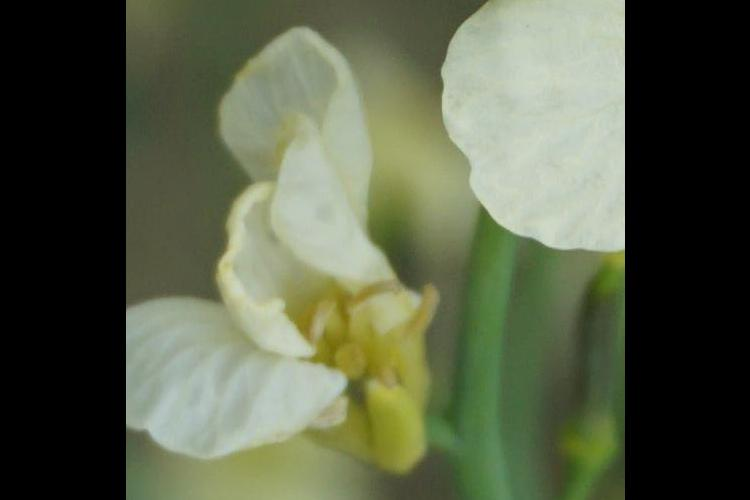white: (133, 26, 425, 479), (452, 1, 622, 257)
